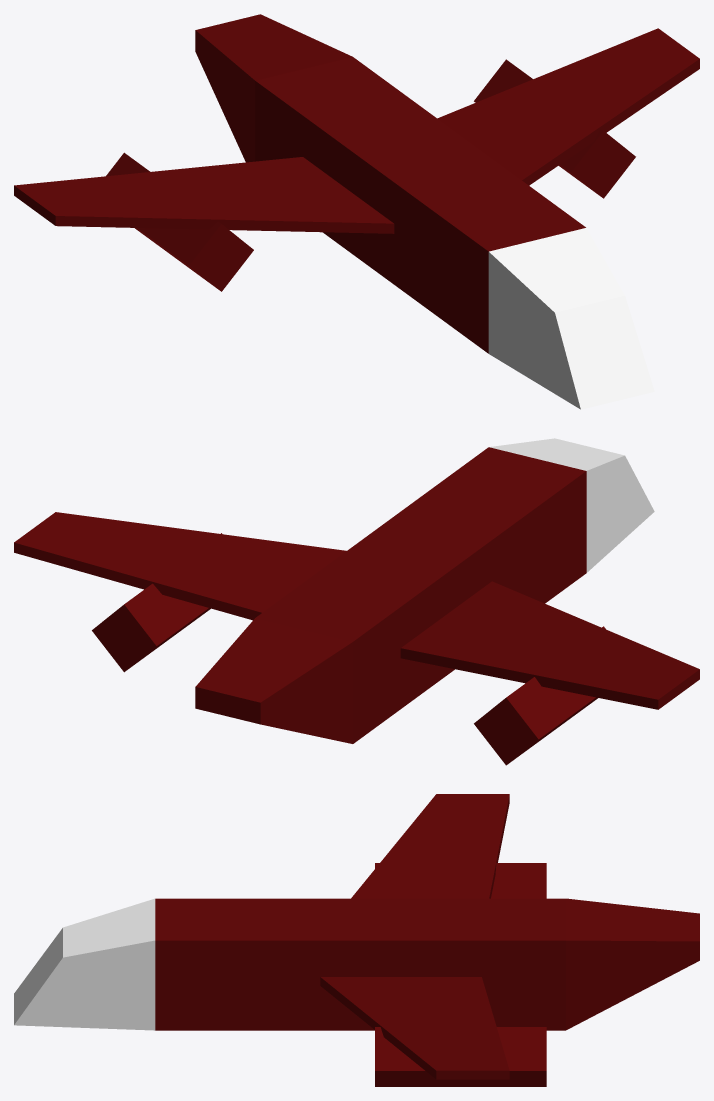
File: ePlane.fbx
3 renders of one model, top to bottom at view 1: azimuth 30°, elevation 25°; view 2: azimuth 150°, elevation 25°; view 3: azimuth 270°, elevation 25°, orthographic. The views are drawn at different scales.
Visible parts, largest first — view 1: Cube, Cube.001, Cube.002; view 2: Cube, Cube.001, Cube.002; view 3: Cube, Cube.001, Cube.002.
Part boxes in pixels (x1,y1,x2,y2): Cube: (195,14,654,409); Cube.001: (14,28,699,233); Cube.002: (106,59,635,291); Cube: (195,438,654,743); Cube.001: (14,512,699,709); Cube.002: (92,533,605,765); Cube: (14,898,699,1030); Cube.001: (320,794,509,1079); Cube.002: (375,863,546,1086).
Size of the model in its own units: 1318 by 200 by 1381.
